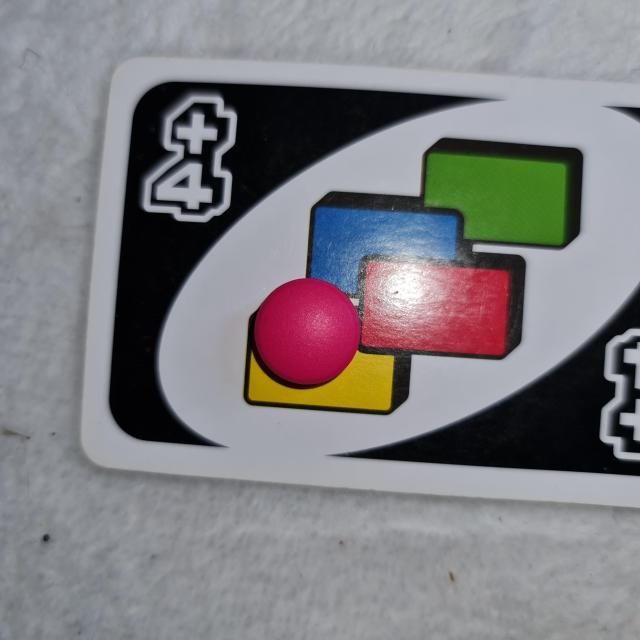pill: (249, 276, 363, 389)
